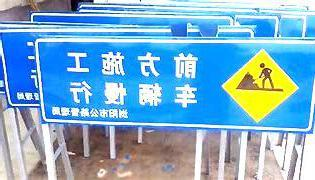sign: (35, 36, 315, 132)
